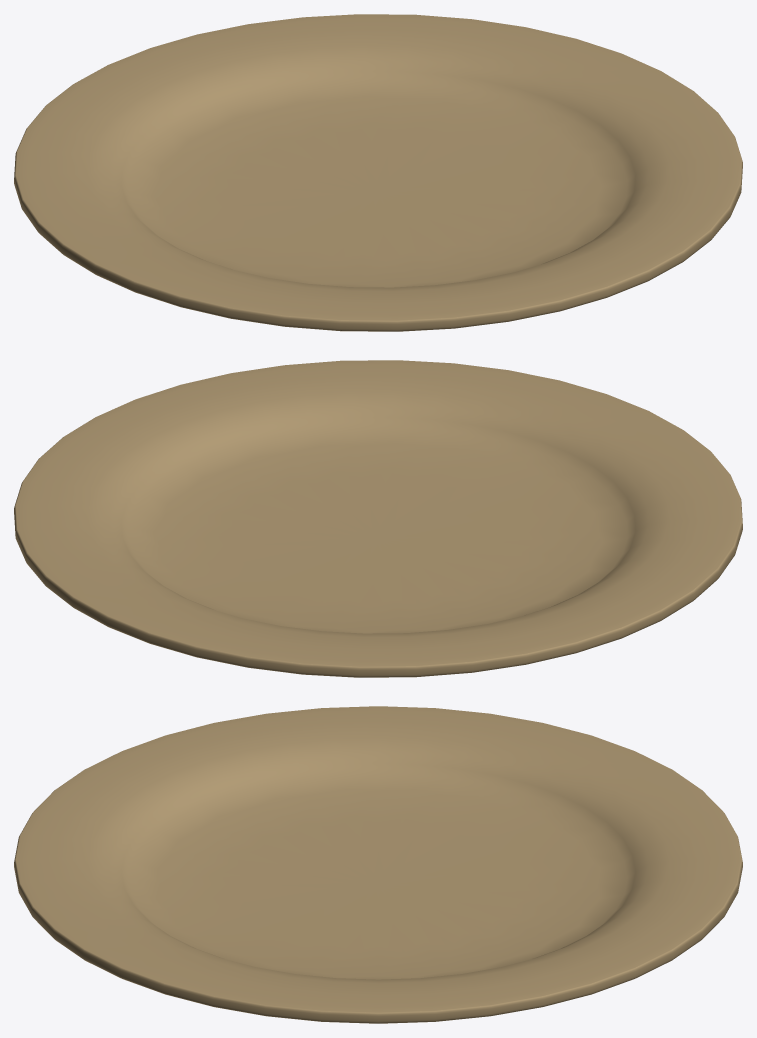
The model's file is plate.fbx.
3 renders of one model, top to bottom at view 1: azimuth 30°, elevation 25°; view 2: azimuth 150°, elevation 25°; view 3: azimuth 270°, elevation 25°, orthographic.
Parts seen in each view (by area): view 1: plate; view 2: plate; view 3: plate.
Part boxes in pixels (x1,y1,x2,y2): plate: (14, 14, 742, 331); plate: (14, 360, 742, 677); plate: (14, 706, 742, 1023).
Size of the model in its own units: 9.09 by 0.6311 by 9.09.
